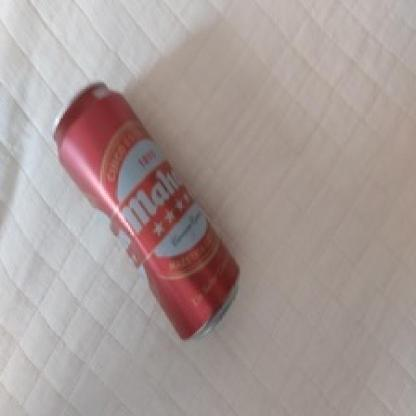Can: (32, 71, 263, 349)
